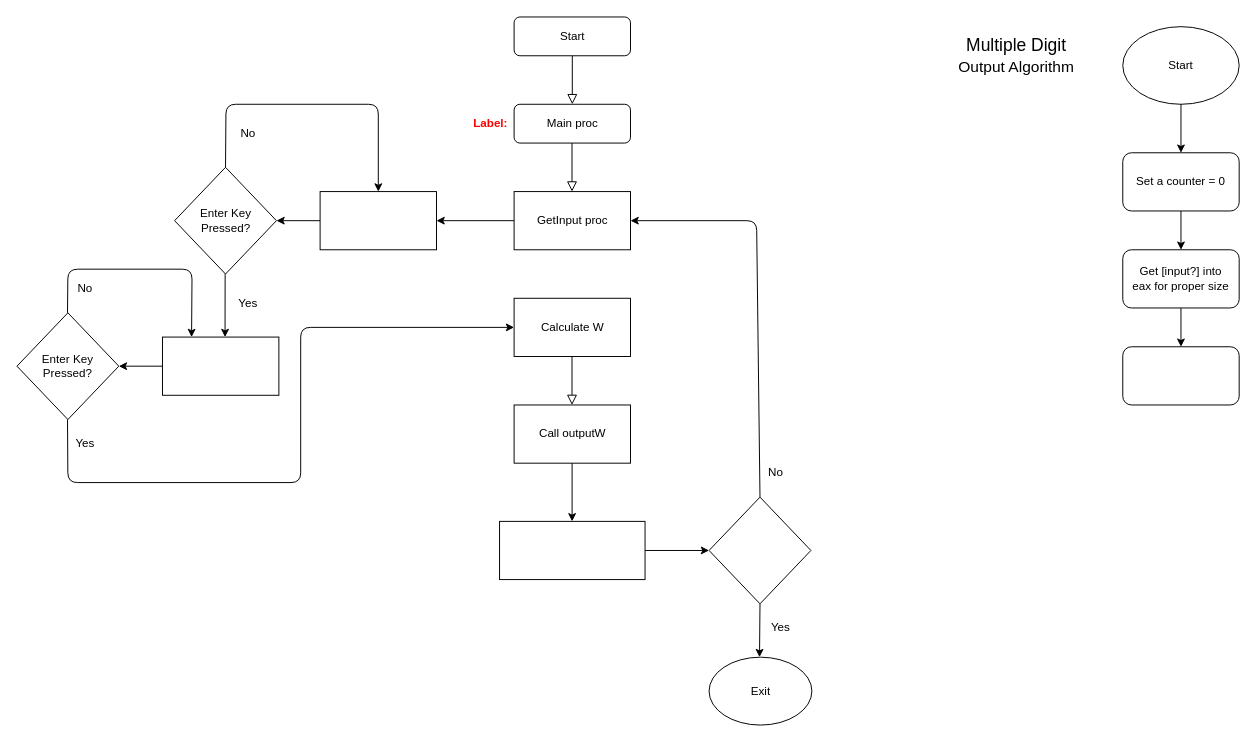
Image size: 1256x742. Some labels were removed from this diagram. Each missing label, with the centre of its shape:
'q' Key Pressed?: pixel 759 550
Display results + "press 'q' to quit or any other key to continue input": pixel 572 550
Get input (X): pixel 377 220
Get input (Y): pixel 220 365
Move 10 into a register and divide eax by this.: pixel 1180 375
